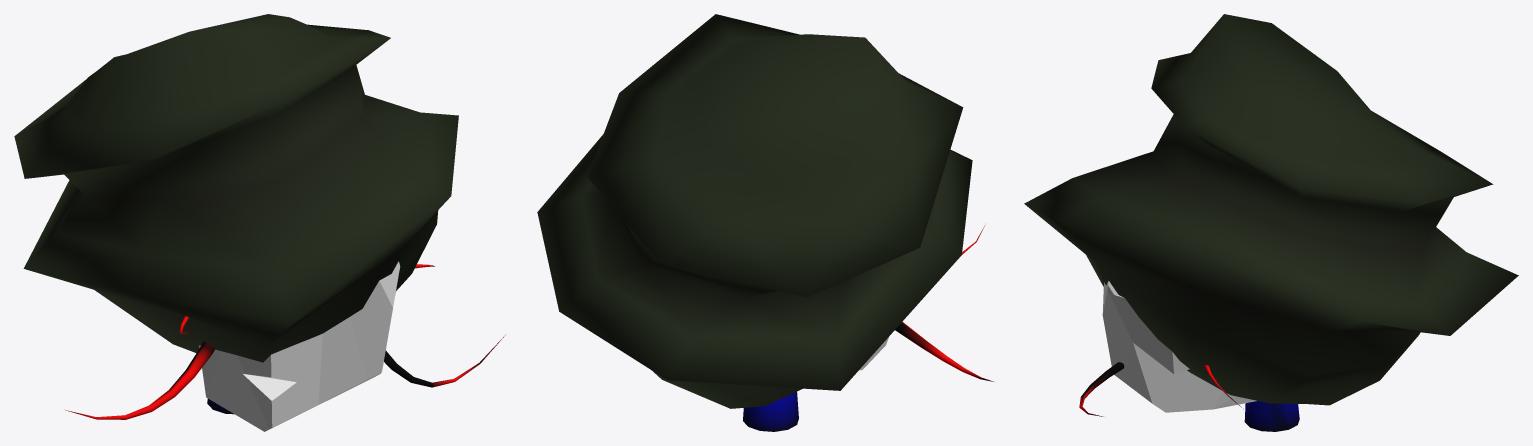
Rendered from Bush_States.fbx.
3 renders of one model, left to right at view 1: azimuth 30°, elevation 25°; view 2: azimuth 150°, elevation 25°; view 3: azimuth 270°, elevation 25°, orthographic. The views are drawn at different scales.
Parts seen in each view (by area): view 1: Leaves, Ice, Naked Bush; view 2: Leaves, Naked Bush; view 3: Leaves, Ice, Naked Bush.
Part boxes in pixels (left/top/right/bottom): Leaves: left=14, top=14, right=458, bottom=362; Ice: left=198, top=261, right=400, bottom=431; Naked Bush: left=65, top=264, right=505, bottom=419; Leaves: left=537, top=14, right=972, bottom=408; Naked Bush: left=743, top=226, right=993, bottom=431; Leaves: left=1024, top=14, right=1518, bottom=405; Ice: left=1102, top=281, right=1256, bottom=412; Naked Bush: left=1079, top=362, right=1299, bottom=431.
Size of the model in its own units: 99.68 by 94.95 by 114.
